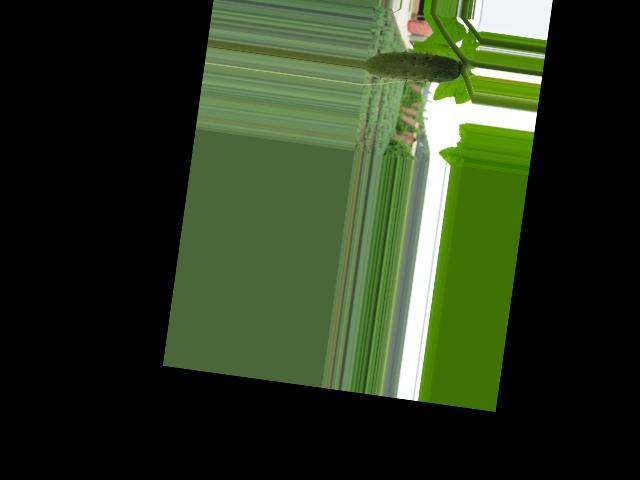cucumber: (363, 45, 462, 89)
